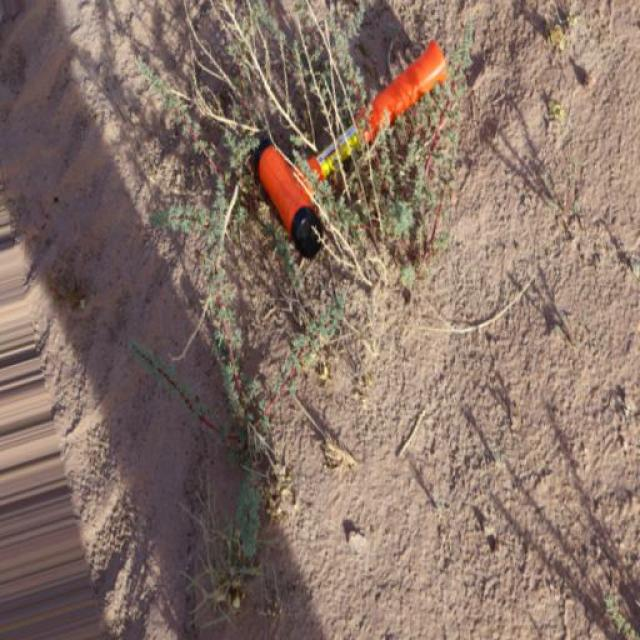mallet: (249, 36, 449, 259)
